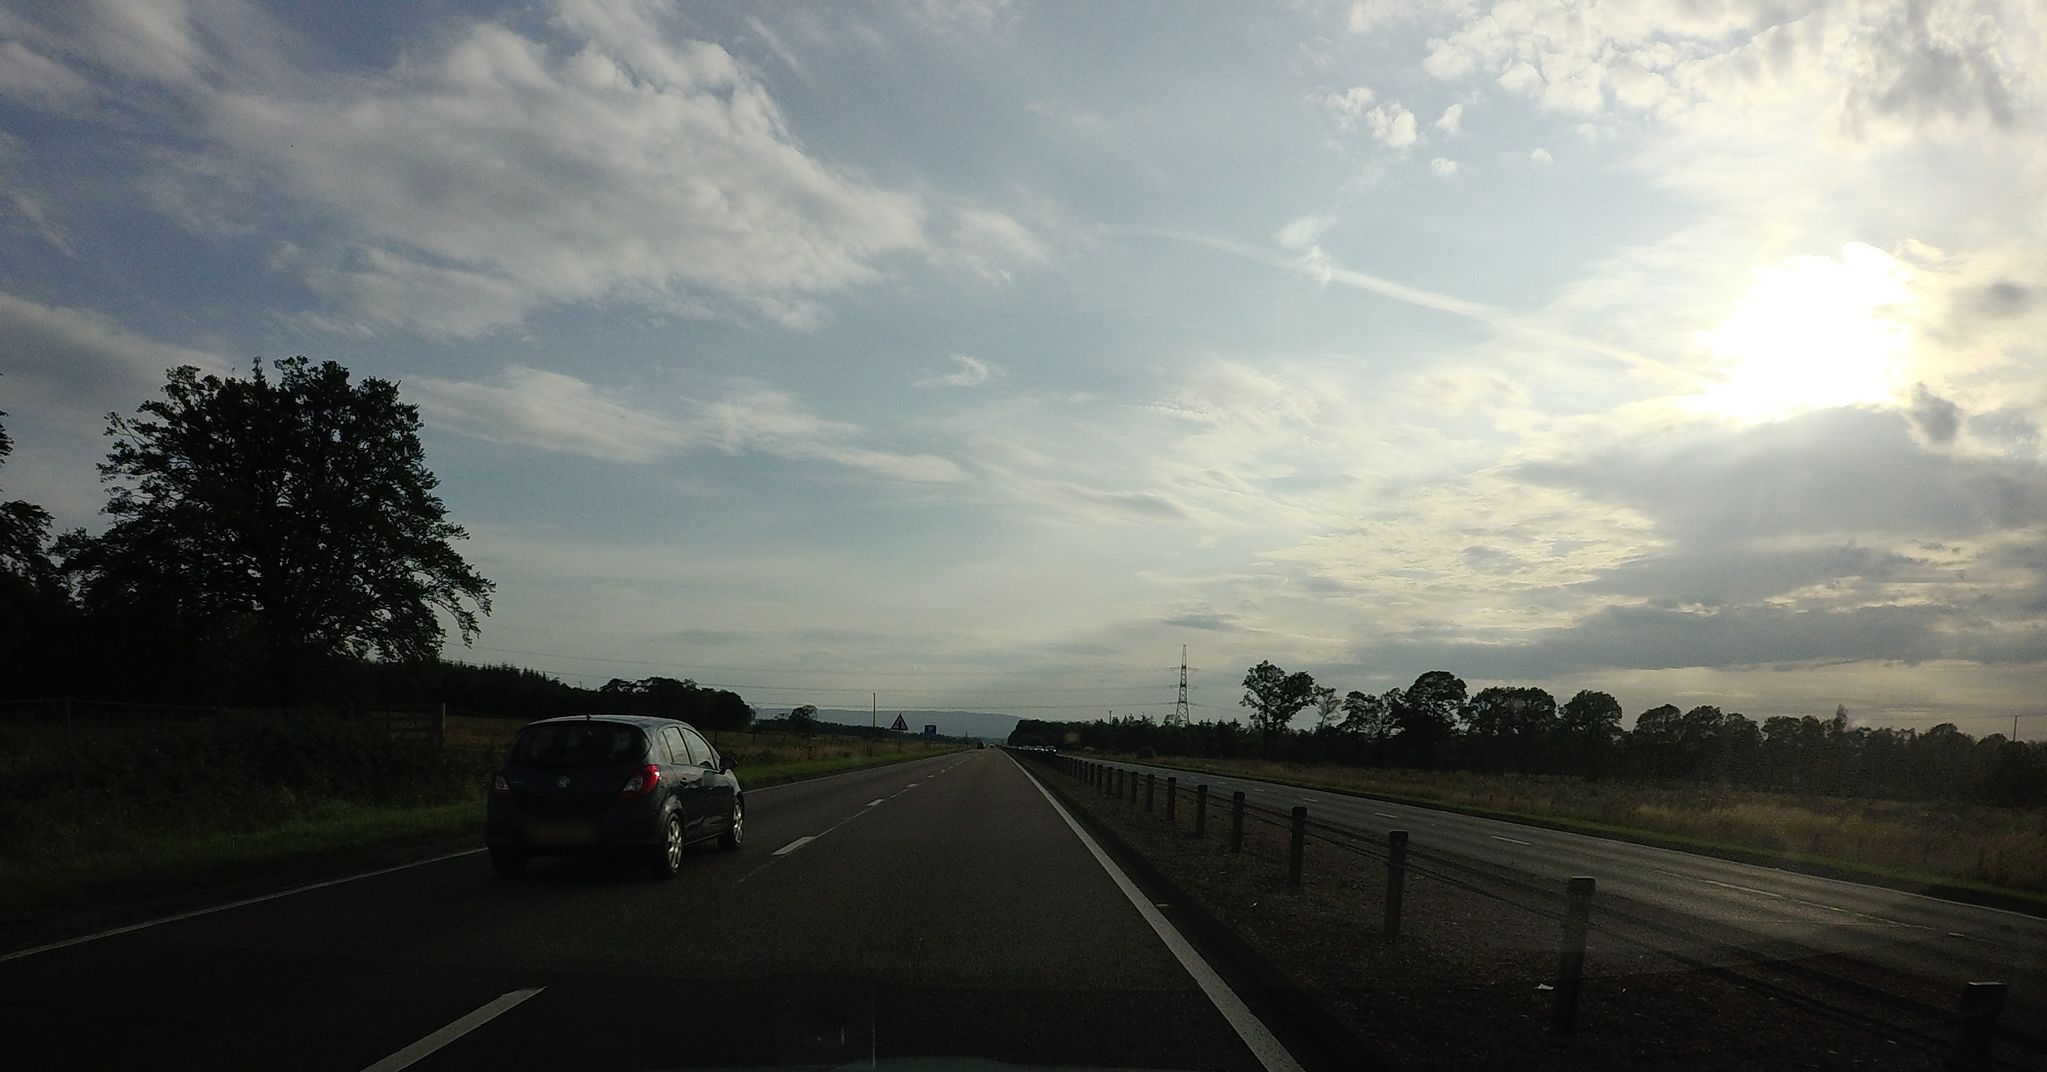car: (482, 715, 746, 874)
